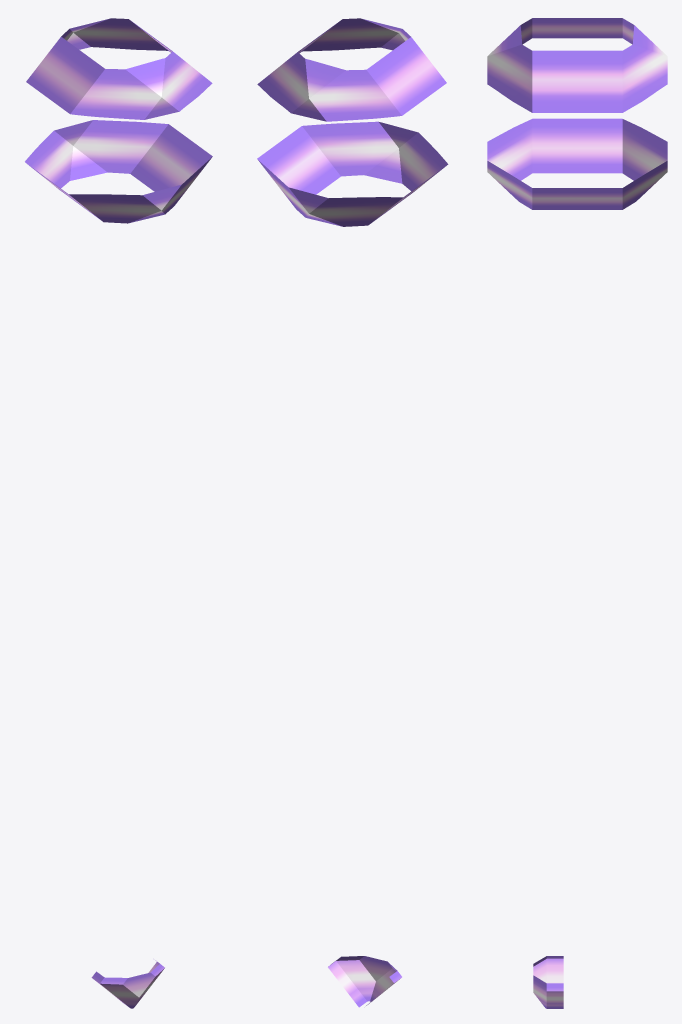
Rendered from pearl.obj.
3 renders of one model, left to right at view 1: azimuth 30°, elevation 25°; view 2: azimuth 150°, elevation 25°; view 3: azimuth 270°, elevation 25°, orthographic. The views are drawn at different scales.
Visible parts, largest first — view 1: SmartCombine_2 group1; view 2: SmartCombine_2 group1; view 3: SmartCombine_2 group1.
Boxes of the visible parts, x1,y1,x2,y2 form: SmartCombine_2 group1: (25,18,212,1008); SmartCombine_2 group1: (257,18,448,1007); SmartCombine_2 group1: (487,18,667,1008).
Size of the model in its own units: 0.1314 by 0.7444 by 0.1239.
